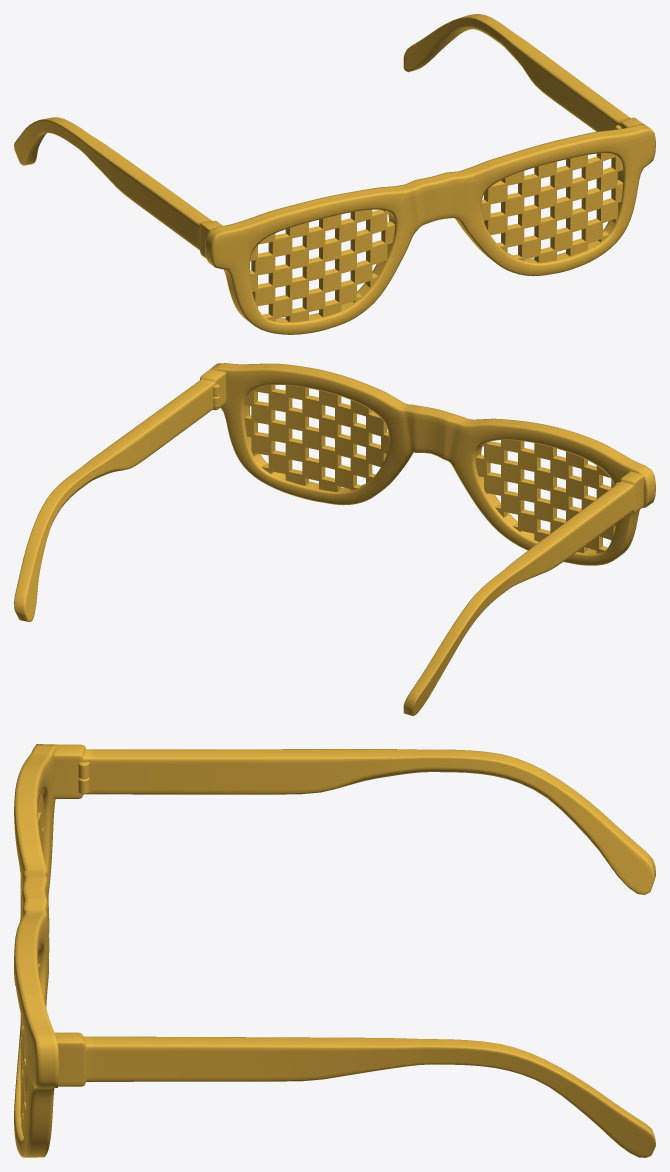
Rendered from checkergoggles.glb.
The picture shows the model from 3 angles, top to bottom: view 1: azimuth 30°, elevation 25°; view 2: azimuth 150°, elevation 25°; view 3: azimuth 270°, elevation 25°; orthographic projection. The views are drawn at different scales.
Visible parts, largest first — view 1: 15947_Checker_Board; view 2: 15947_Checker_Board; view 3: 15947_Checker_Board.
Boxes of the visible parts, bbox=[...] form: 15947_Checker_Board: bbox=[14, 14, 655, 334]; 15947_Checker_Board: bbox=[14, 363, 655, 715]; 15947_Checker_Board: bbox=[14, 744, 655, 1157].
Size of the model in its own units: 15.5 by 4.2 by 13.81.
